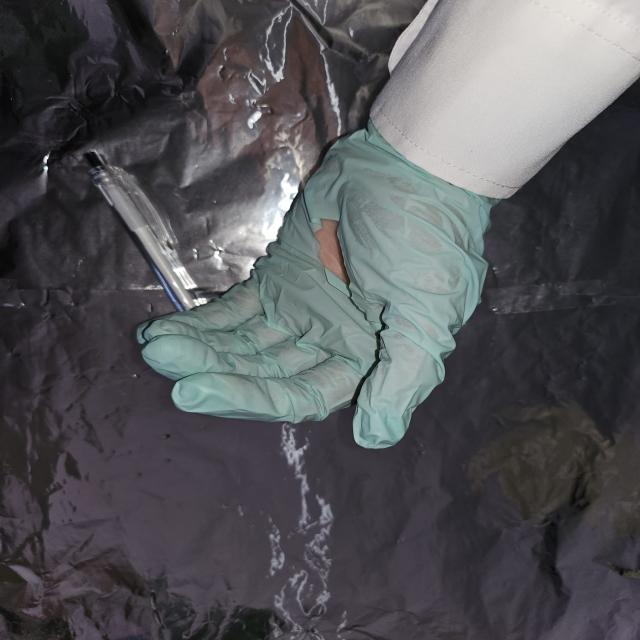gloves_damaged: (135, 122, 506, 450)
